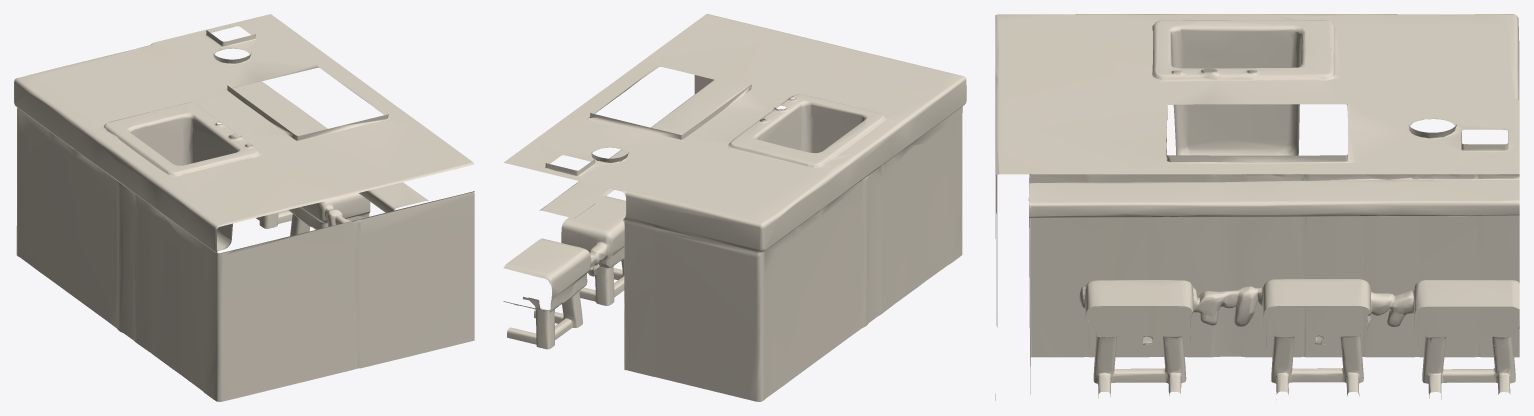
Rendered from kitchen_island.glb.
3 views of the same model, side by side, from view 1: azimuth 30°, elevation 25°; view 2: azimuth 150°, elevation 25°; view 3: azimuth 270°, elevation 25° (orthographic). The views are drawn at different scales.
Size of the model in its own units: 0.405 by 0.273 by 0.5529.
